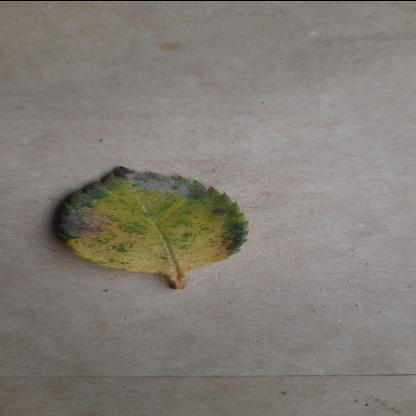powdery-mildew: (57, 158, 253, 278)
